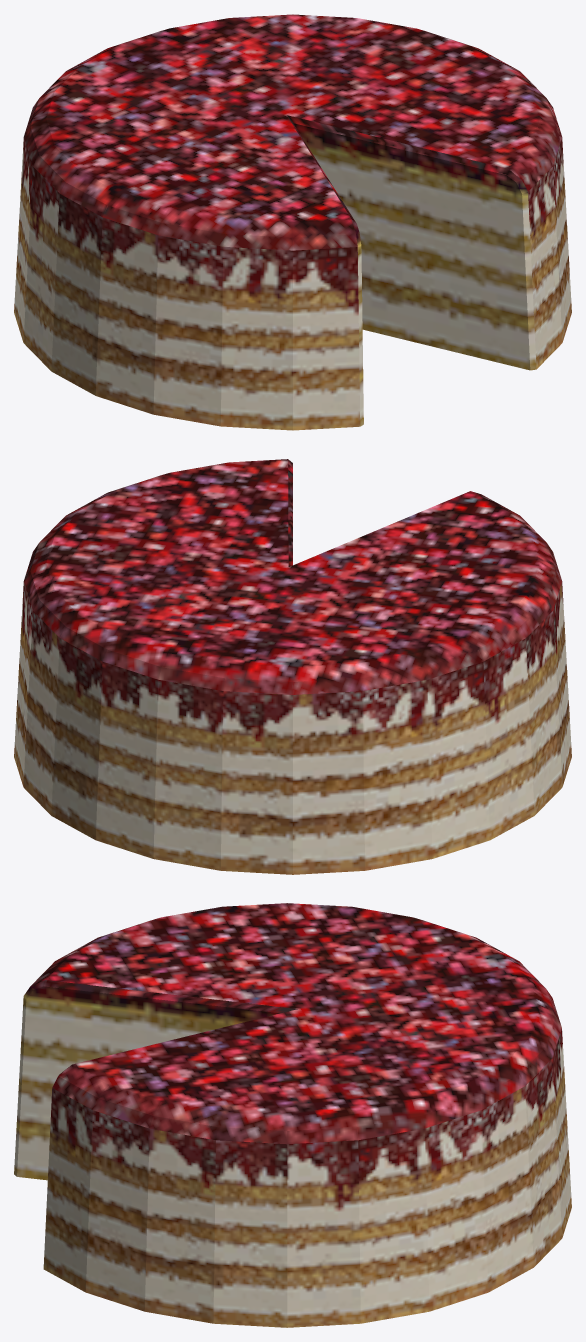
Rendered from Cake.dae.
3 views of the same model, one above another, from view 1: azimuth 30°, elevation 25°; view 2: azimuth 150°, elevation 25°; view 3: azimuth 270°, elevation 25° (orthographic). The views are drawn at different scales.
Parts seen in each view (by area): view 1: skp2956; view 2: skp2956; view 3: skp2956.
Part boxes in pixels (x1=…): skp2956: x1=14, y1=14, x2=571, y2=430; skp2956: x1=14, y1=459, x2=571, y2=874; skp2956: x1=14, y1=903, x2=571, y2=1327.
Bounding box in the file's own units: 24.35 × 23.85 × 9.33.
1 material, 1 textured.
